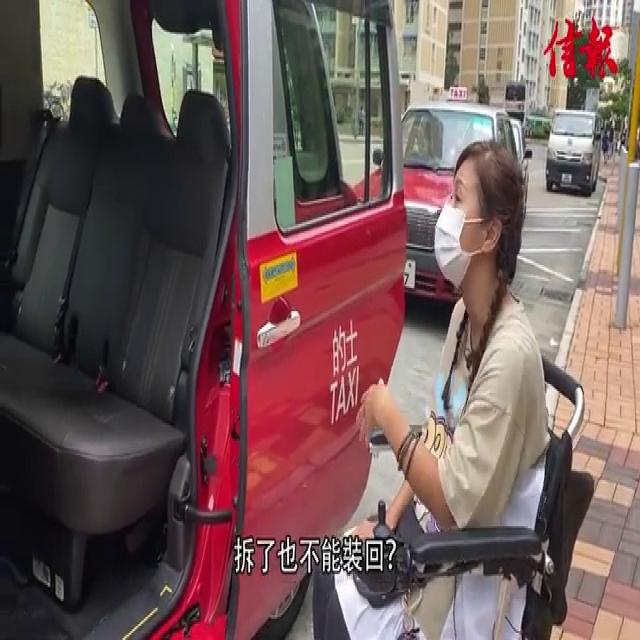wheelchairs: (341, 333, 604, 635)
